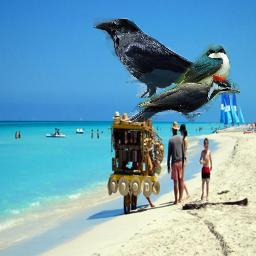Crow: (93, 18, 215, 98)
Swallow: (156, 44, 230, 102)
Woodpecker: (125, 74, 240, 122)
